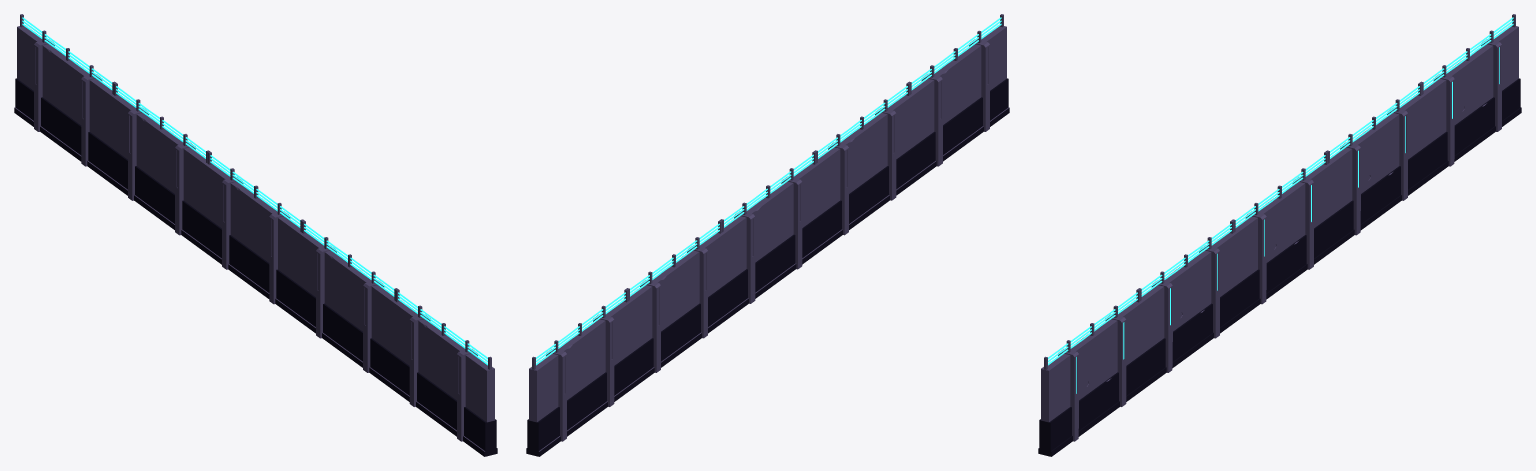
File: BigFence_01.fbx
3 views of the same model, side by side, from view 1: azimuth 30°, elevation 25°; view 2: azimuth 150°, elevation 25°; view 3: azimuth 330°, elevation 25° (orthographic).
Visible parts, largest first — view 1: BigFence_01; view 2: BigFence_01; view 3: BigFence_01.
Part boxes in pixels (x1,y1,x2,y2): BigFence_01: [14, 14, 497, 456]; BigFence_01: [526, 14, 1009, 456]; BigFence_01: [1038, 14, 1521, 456].
Bounding box in the file's own units: 102 × 568 × 4982.
